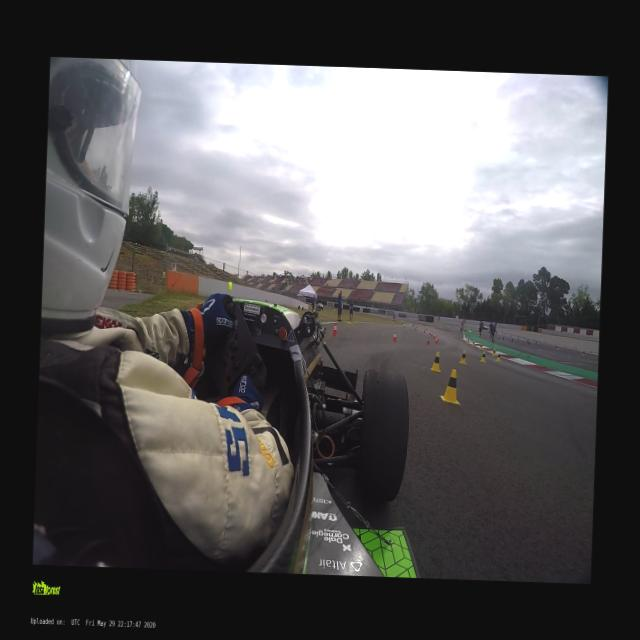orange_cone: (330, 322, 338, 336), (390, 332, 397, 342), (433, 337, 438, 344), (426, 338, 430, 345)
yellow_cone: (439, 368, 461, 404), (429, 351, 441, 372), (458, 350, 468, 364), (480, 350, 486, 362), (495, 352, 500, 361), (492, 348, 496, 356), (478, 342, 482, 348), (466, 337, 469, 343), (461, 335, 464, 340), (449, 332, 452, 337), (472, 341, 474, 346)
